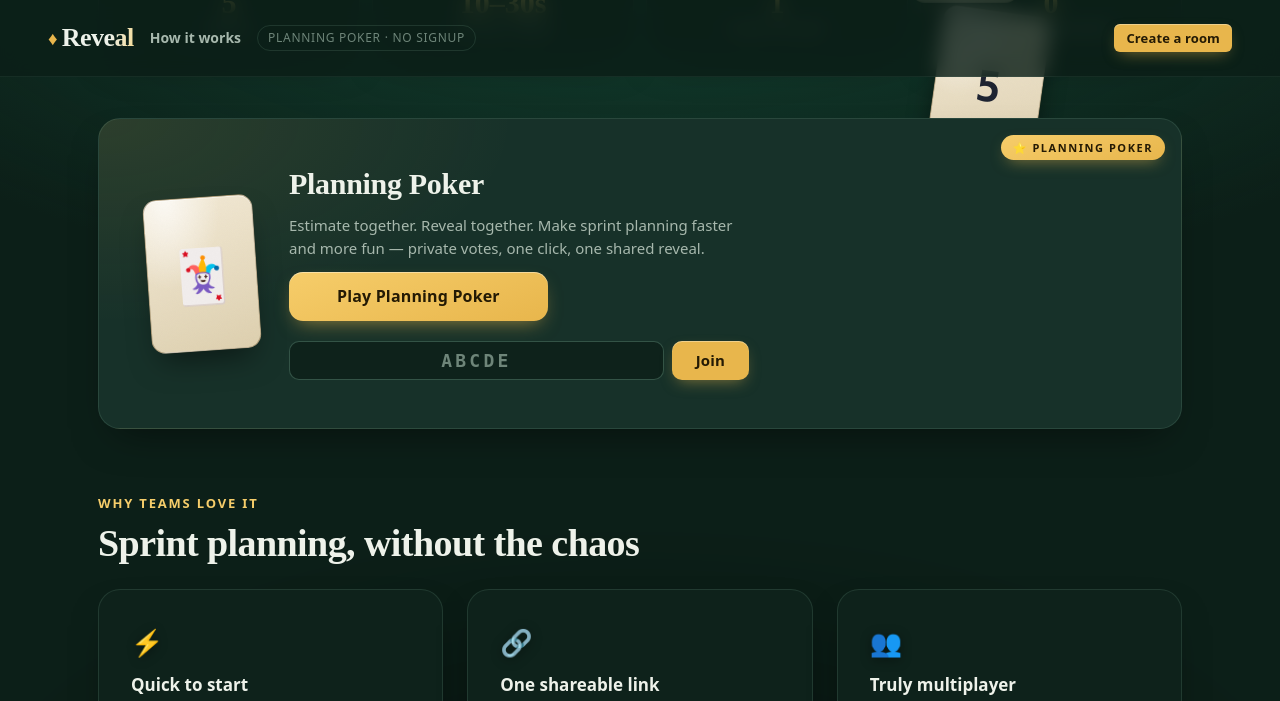
Test case: HomePage › validates the join code
(page scrolled)
In the field named "Room code": (476, 361) [289,341,664,380], type "ab"
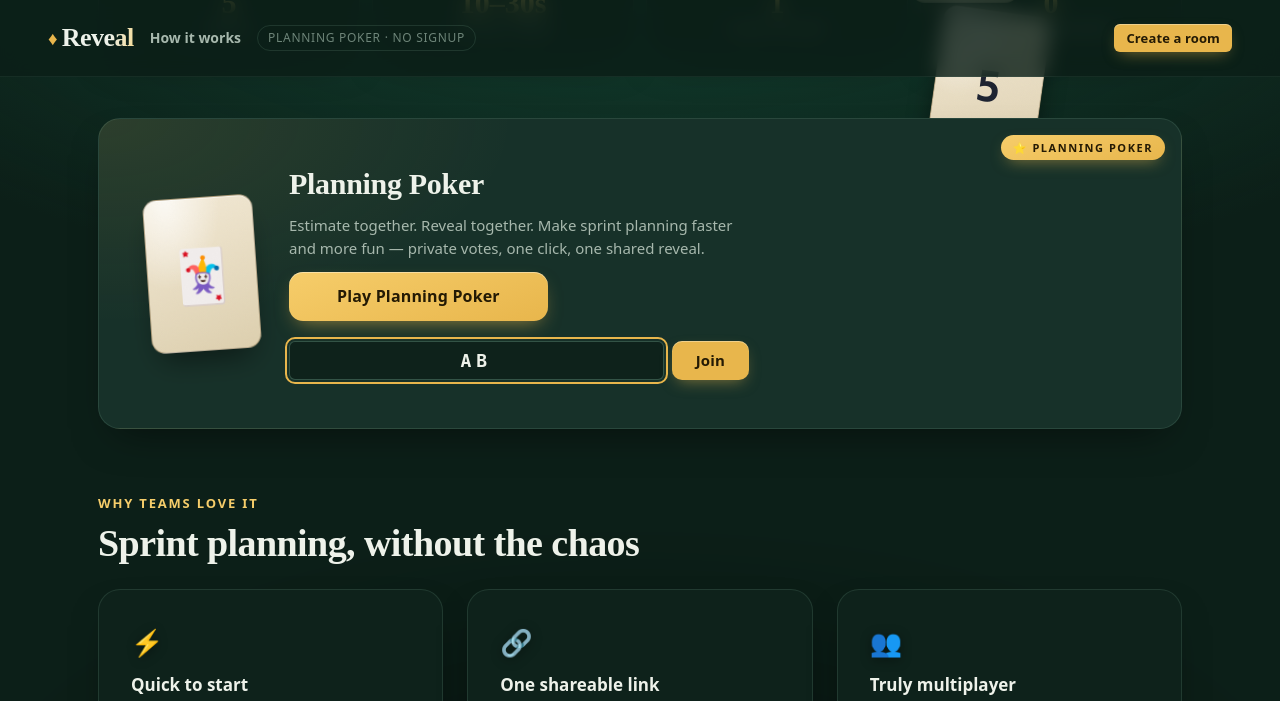
Click the button "Join": (710, 361) [672,341,749,380]
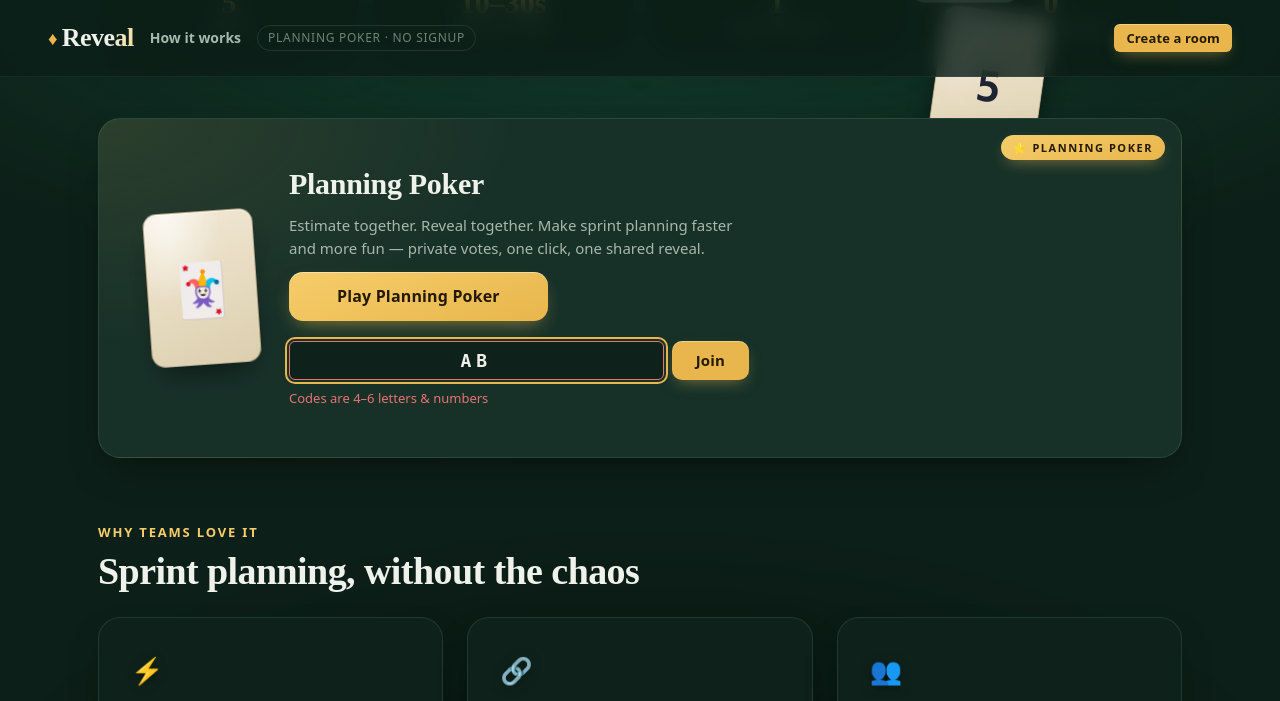
Now the text "Codes are 4–6 letters & numbers" is shown, box [289,389,488,407]
